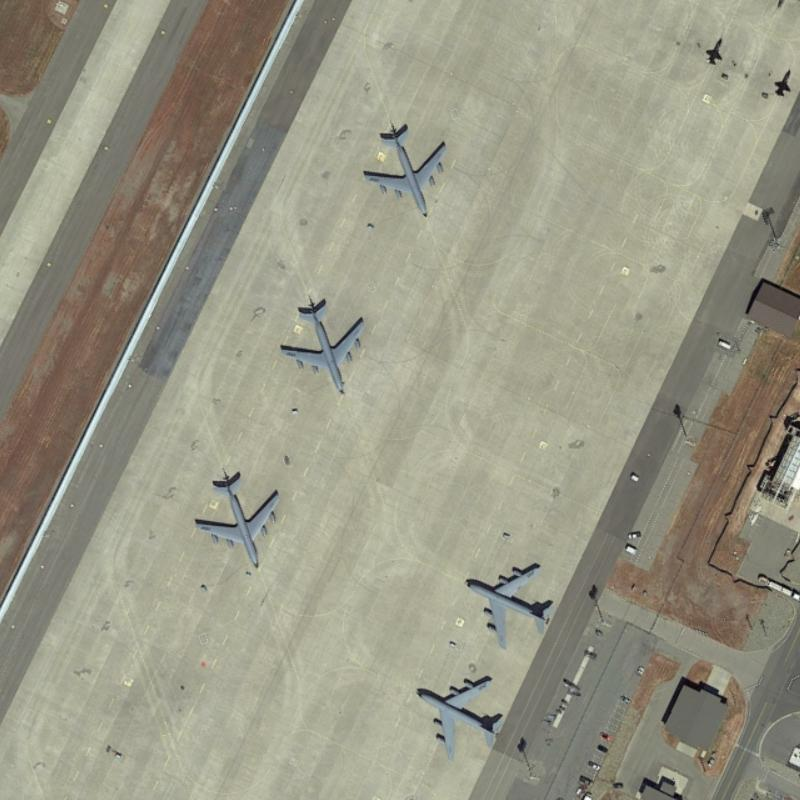A14: (184, 465, 290, 574), (404, 665, 510, 768), (456, 554, 569, 649), (275, 293, 372, 394), (362, 115, 451, 221)
